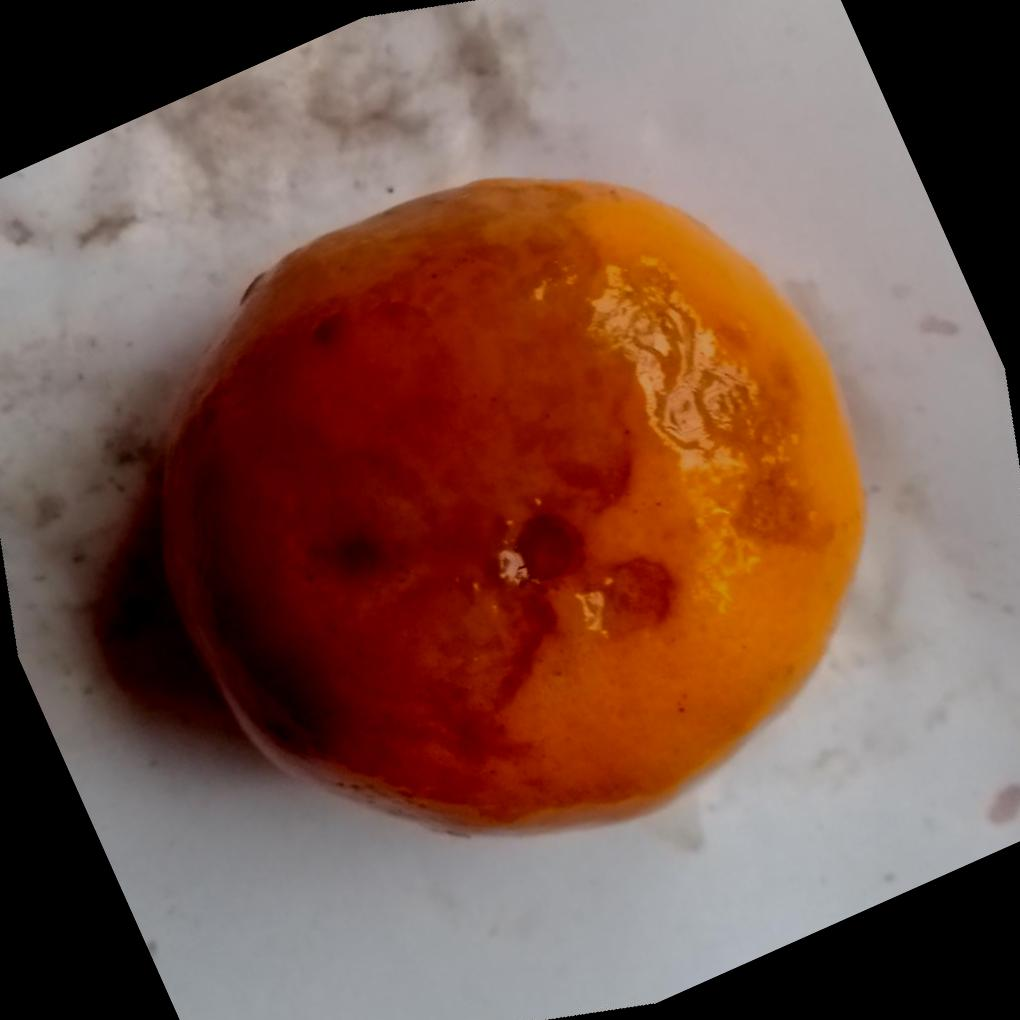FreshOrange: (154, 178, 864, 837)
